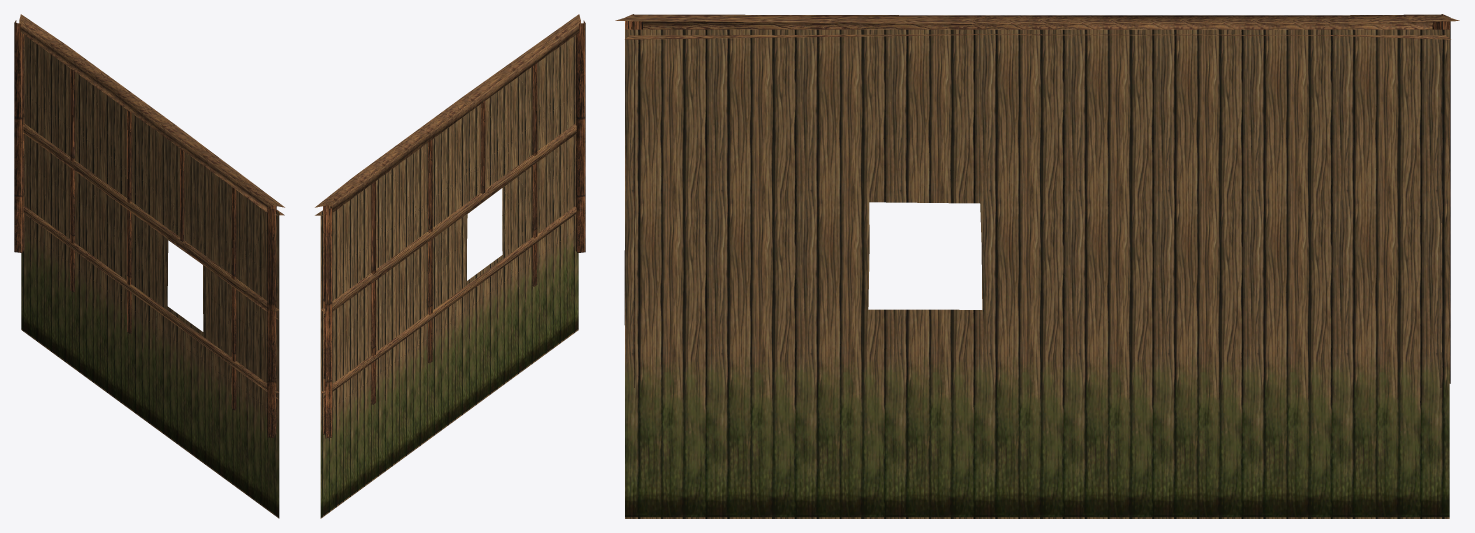
The model's file is LAKETOWN_WAREHOUSE2_PS_WH2_PLATWALL73736__GX.fbx.
The picture shows the model from 3 angles, left to right: view 1: azimuth 30°, elevation 25°; view 2: azimuth 150°, elevation 25°; view 3: azimuth 270°, elevation 25°; orthographic projection. The views are drawn at different scales.
Parts seen in each view (by area): view 1: LAKETOWN_WAREHOUSE2_PS_WH2_PLATWALL73736__GX; view 2: LAKETOWN_WAREHOUSE2_PS_WH2_PLATWALL73736__GX; view 3: LAKETOWN_WAREHOUSE2_PS_WH2_PLATWALL73736__GX.
Part boxes in pixels (left/top/right/bottom): LAKETOWN_WAREHOUSE2_PS_WH2_PLATWALL73736__GX: left=14, top=14, right=284, bottom=518; LAKETOWN_WAREHOUSE2_PS_WH2_PLATWALL73736__GX: left=315, top=14, right=585, bottom=518; LAKETOWN_WAREHOUSE2_PS_WH2_PLATWALL73736__GX: left=615, top=14, right=1459, bottom=518.
Bounding box in the file's own units: 7850 × 153127 × 234856.
5 materials, 5 textured.
